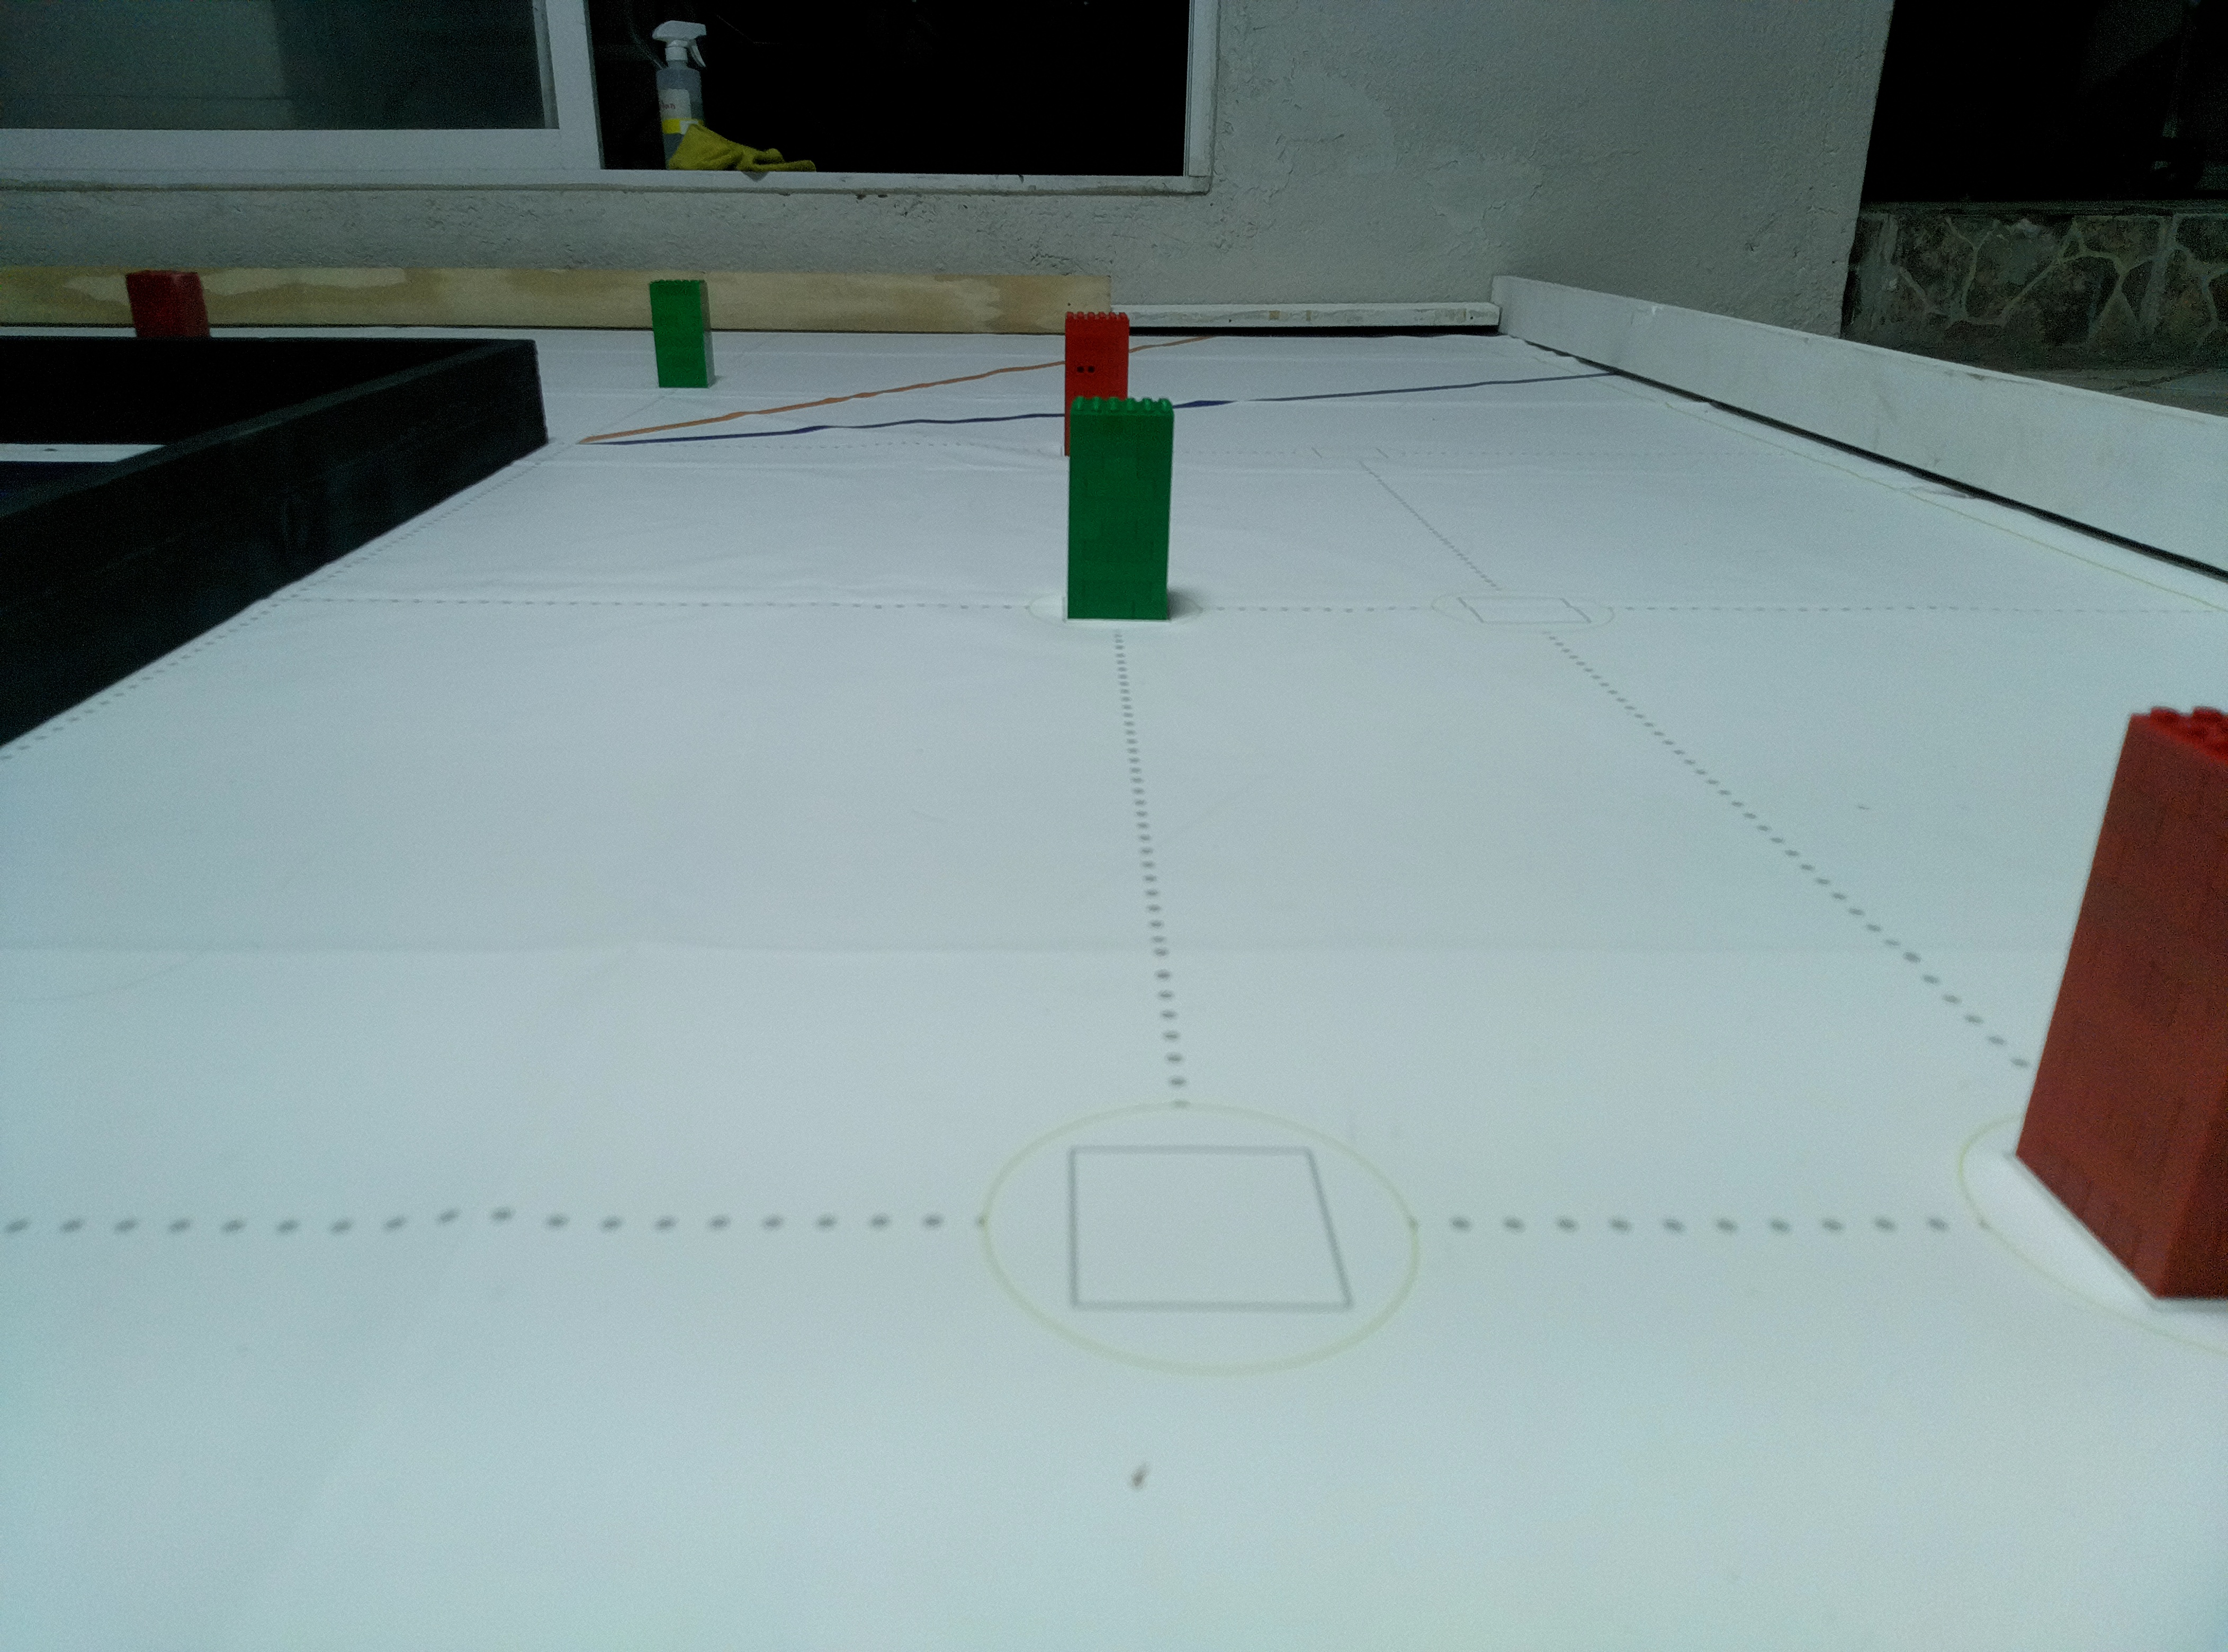greenbox: (1064, 394, 1176, 626), (647, 278, 717, 390)
redbox: (2002, 703, 2228, 1314), (1062, 311, 1130, 458), (125, 269, 212, 337)
